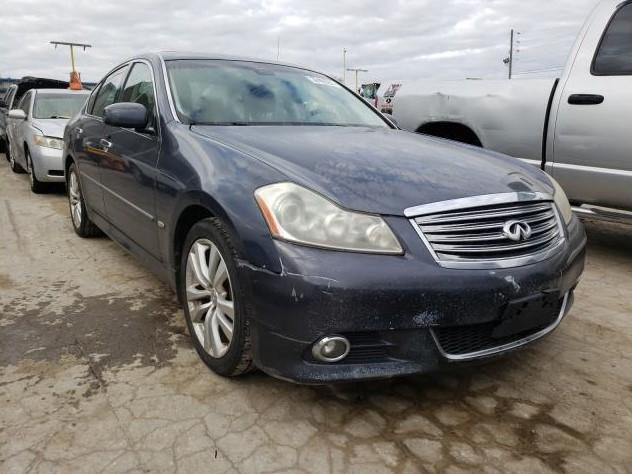Back-door: (71, 60, 129, 219)
Back-wheel: (69, 163, 106, 238)
Back-window: (85, 65, 127, 119)
Fender: (155, 119, 291, 274)
Front-bumper: (240, 201, 586, 386)
Front-door: (100, 60, 161, 262)
Front-wheel: (181, 217, 257, 377)
Front-window: (111, 62, 153, 132)
Grille: (402, 192, 565, 269)
Headlight: (255, 182, 405, 255), (544, 172, 574, 226)
Hood: (191, 124, 555, 216)
License-plate: (493, 292, 559, 336)
Mirror: (103, 102, 159, 135), (385, 114, 398, 127)
Quarter-panel: (63, 106, 83, 180)
Rocker-panel: (86, 205, 178, 299)
Roof: (153, 51, 330, 74)
Windshield: (164, 60, 392, 128)
